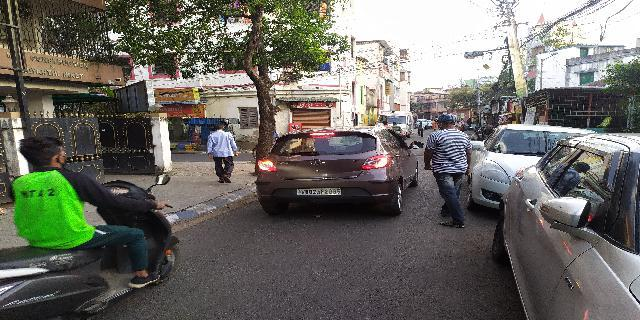Car: (499, 131, 640, 320), (249, 126, 419, 217), (466, 117, 557, 206)
Motorbike: (1, 138, 179, 314)
